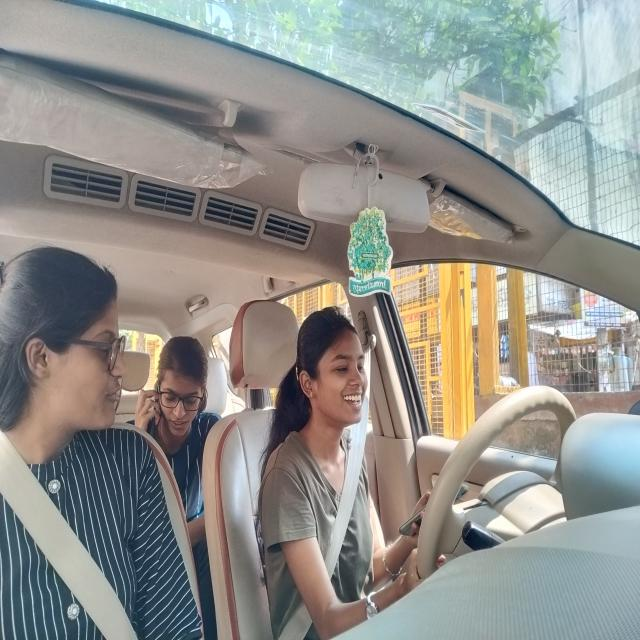mobile: (391, 472, 474, 546)
person: (0, 246, 133, 465), (287, 305, 373, 442), (146, 320, 213, 460)
